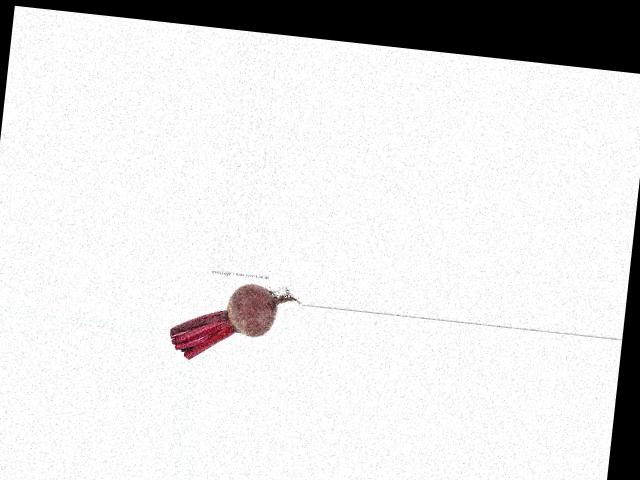beet: (166, 275, 301, 369)
